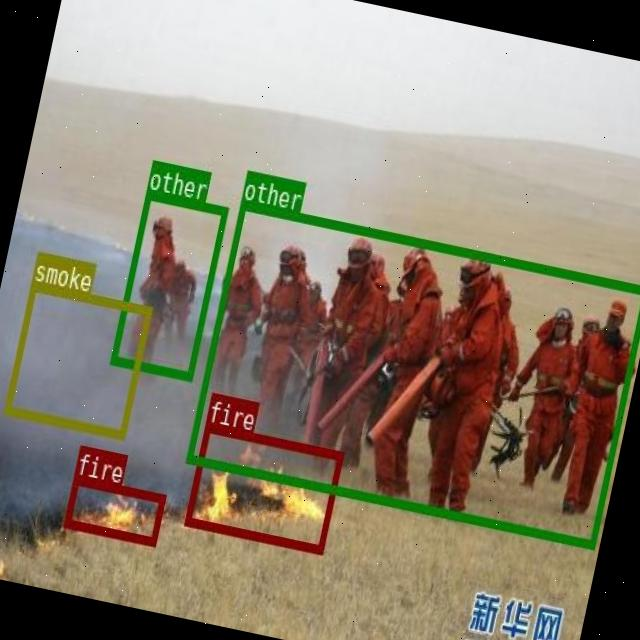fire: (184, 422, 344, 552), (63, 476, 165, 544)
smoke: (3, 281, 150, 437)
